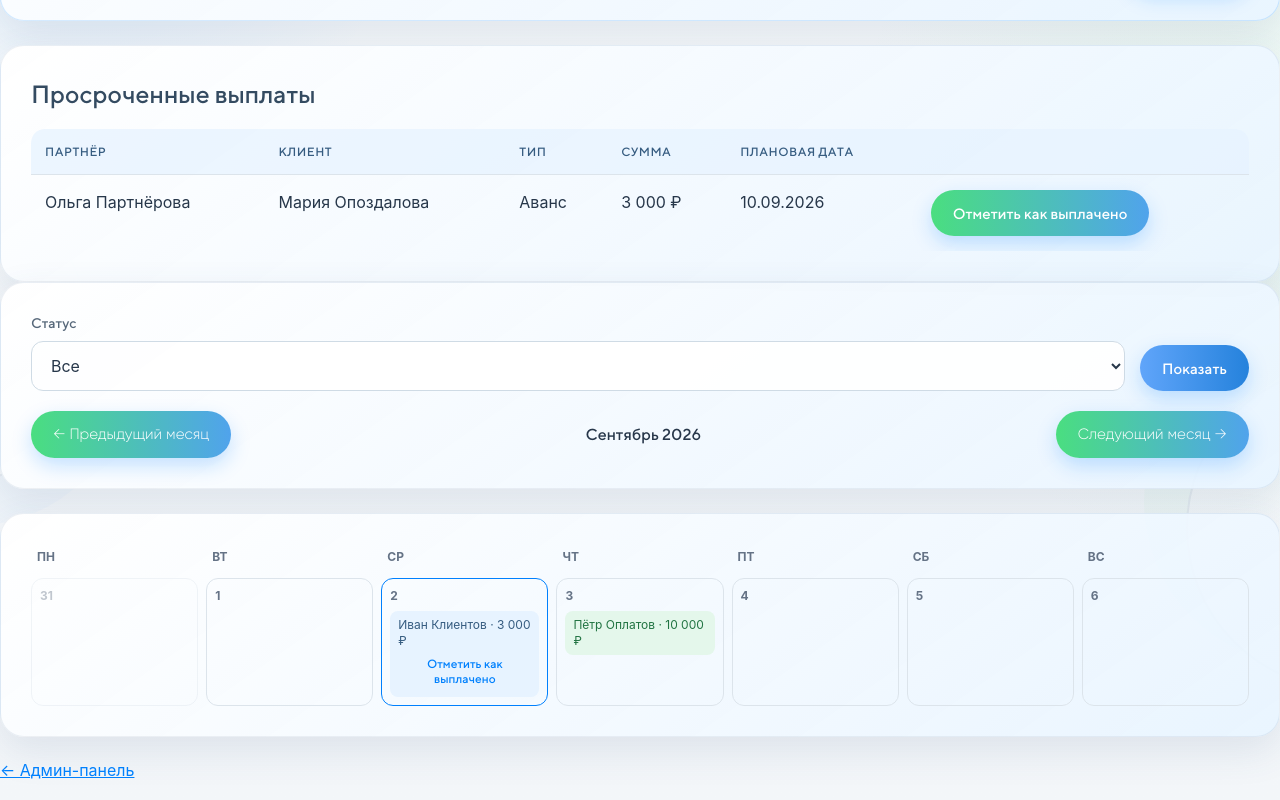
Test: AdminPayoutsPage › shows why an action was refused
(page scrolled)
Step 1. Click the button with aria-label "Отметить как выплачено: Иван Клиентов, 3 000 ₽" → [465, 671], box [398,651,531,691]
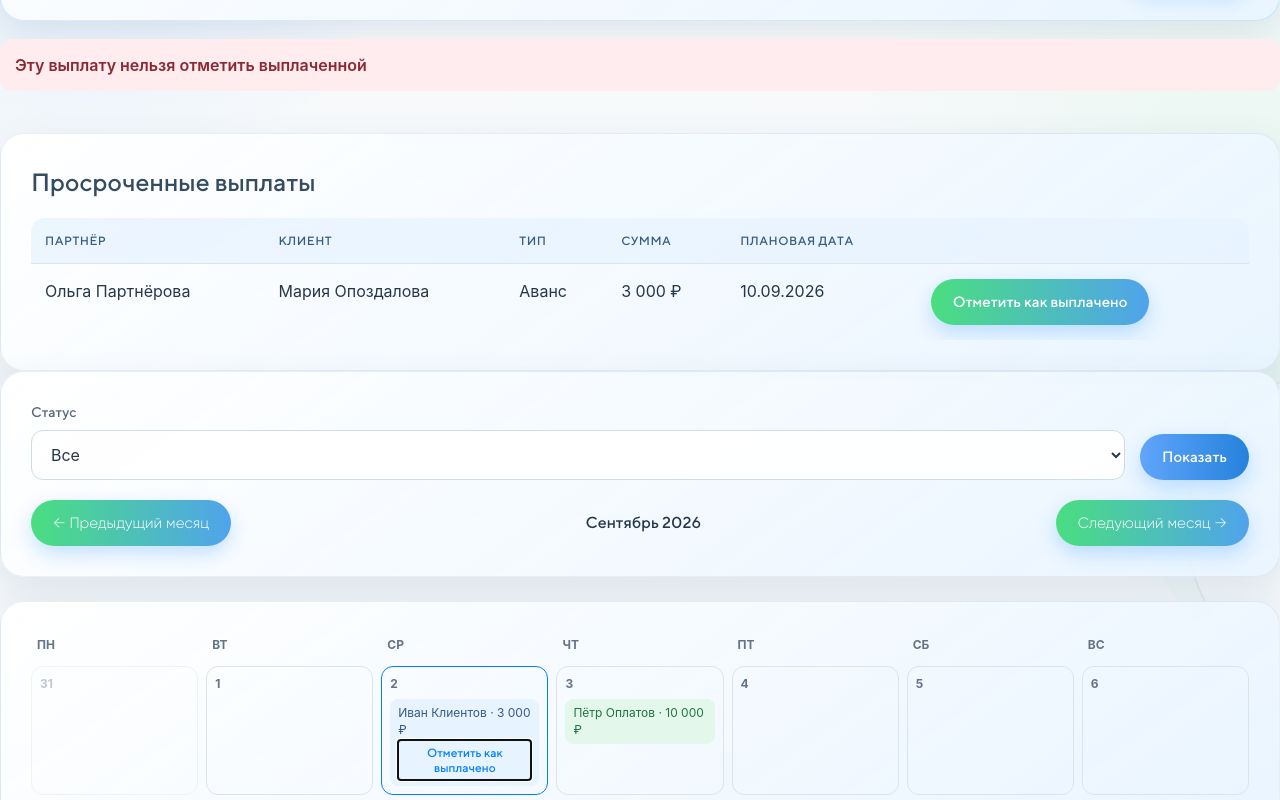
Now the message shows "нельзя отметить выплаченной", box [15,55,367,75]
